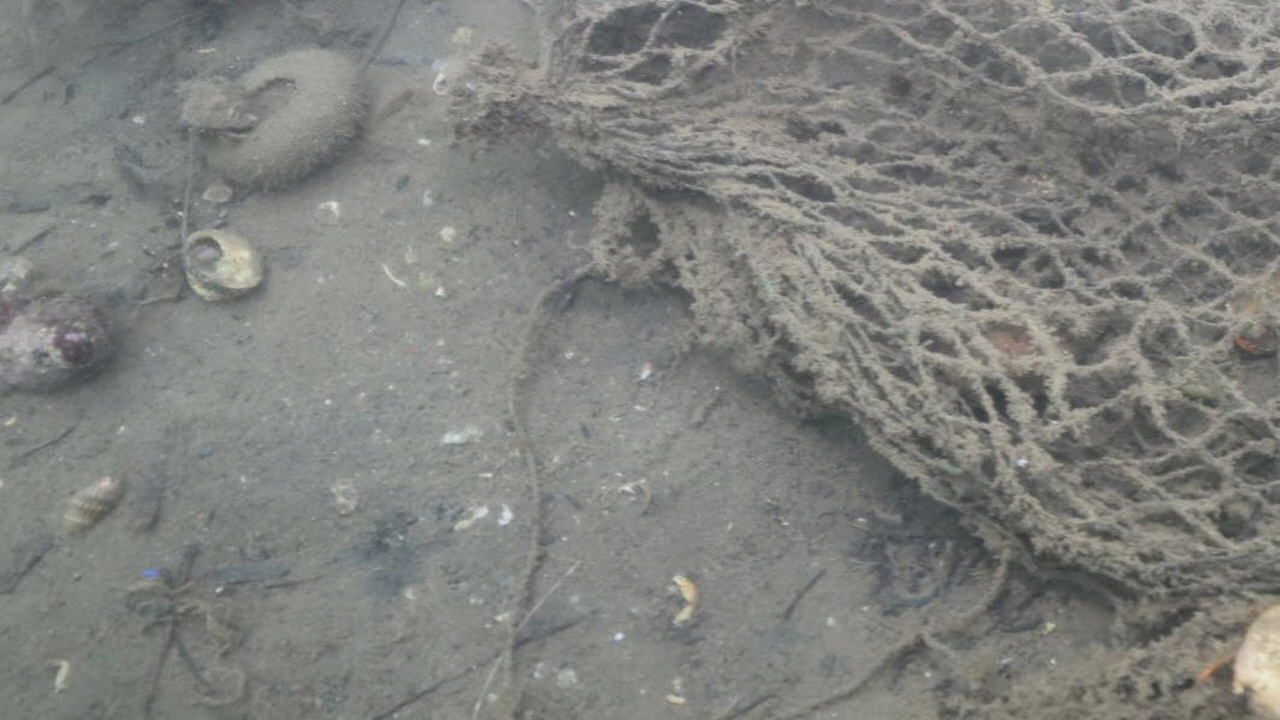fish net: (539, 0, 1280, 591)
